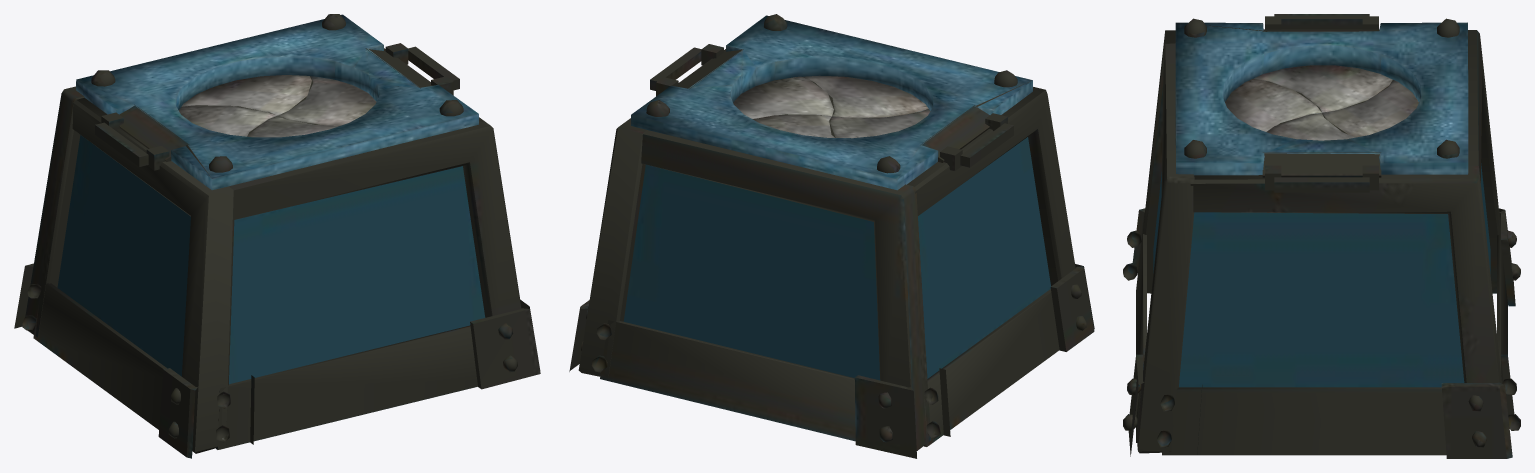
The model's file is requester-chest.glb.
3 renders of one model, left to right at view 1: azimuth 30°, elevation 25°; view 2: azimuth 150°, elevation 25°; view 3: azimuth 270°, elevation 25°, orthographic. The views are drawn at different scales.
Visible parts, largest first — view 1: body; view 2: body; view 3: body.
Part boxes in pixels (x1,y1,x2,y2): body: (14,14,540,458); body: (569,14,1094,458); body: (1123,14,1520,458).
Bounding box in the file's own units: 1.02 × 0.7135 × 0.9.
1 material, 1 textured.
